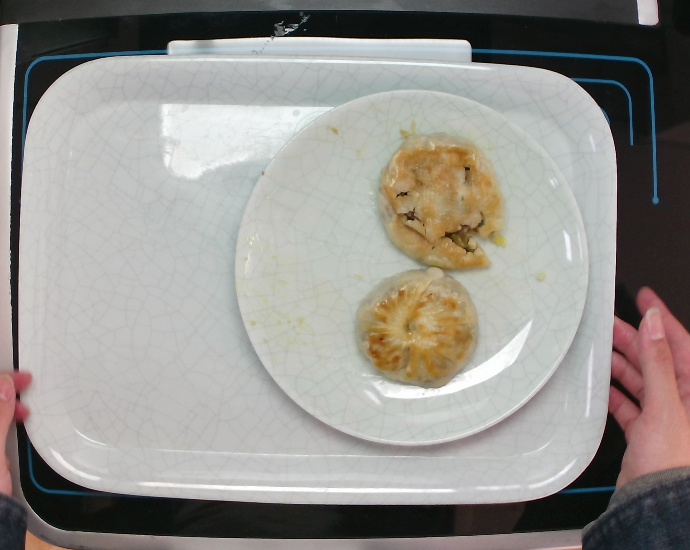JYsf-Da_Yuan_Pan: (227, 82, 593, 449)
